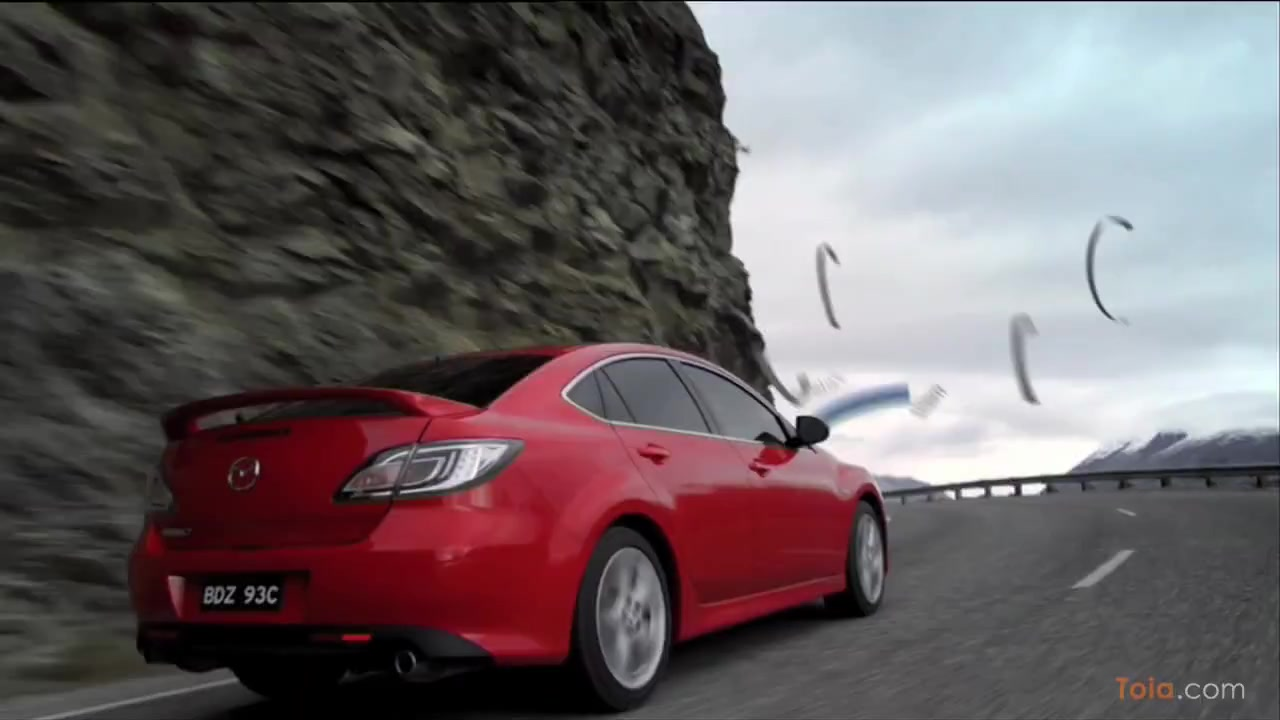car: (118, 332, 894, 709)
